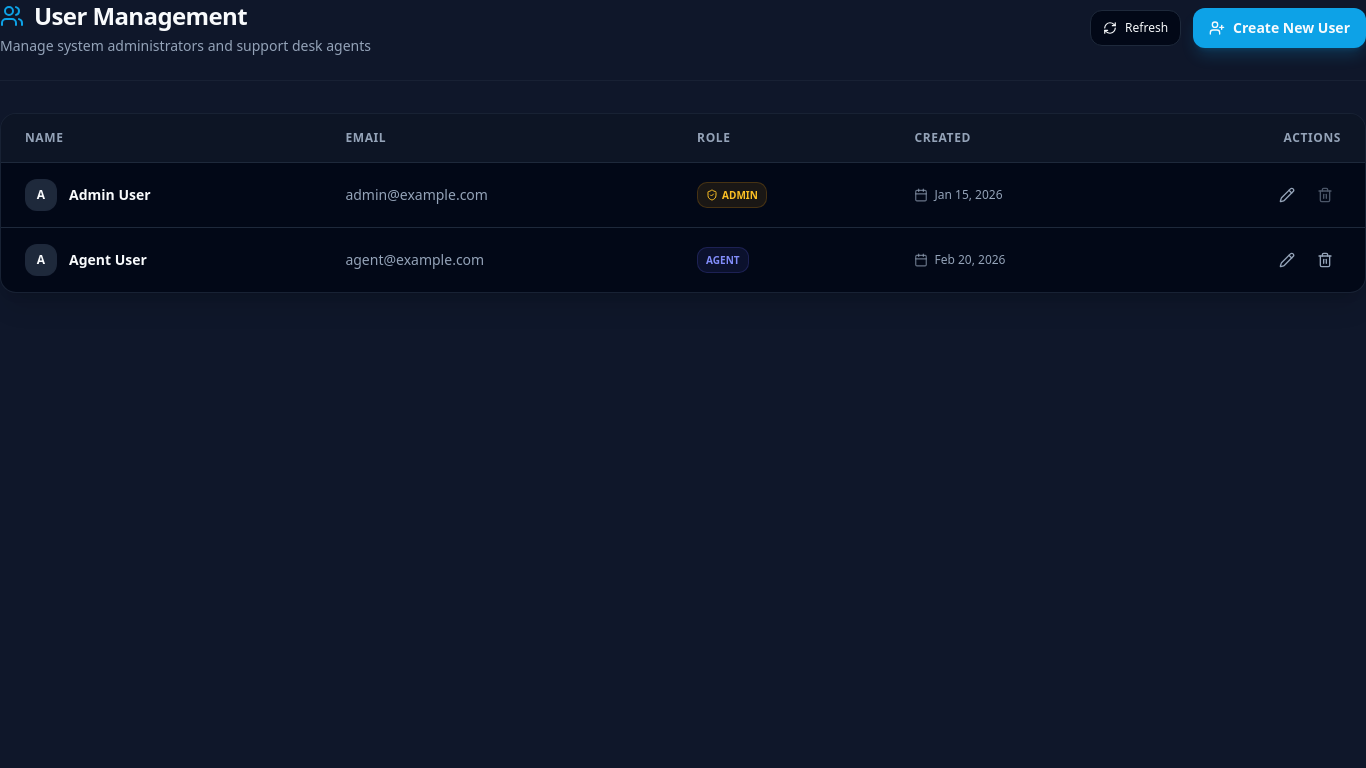
it: UsersPage Component › should open edit modal populated with selected user data when Edit button is clicked
The image size is (1366, 768).
Expected: the text "Admin User" is shown, [69,185,151,205]
Click edit button for "Admin User"
Click the button named "edit user admin user". click: (1287, 195)
box: [1271,179,1303,211]
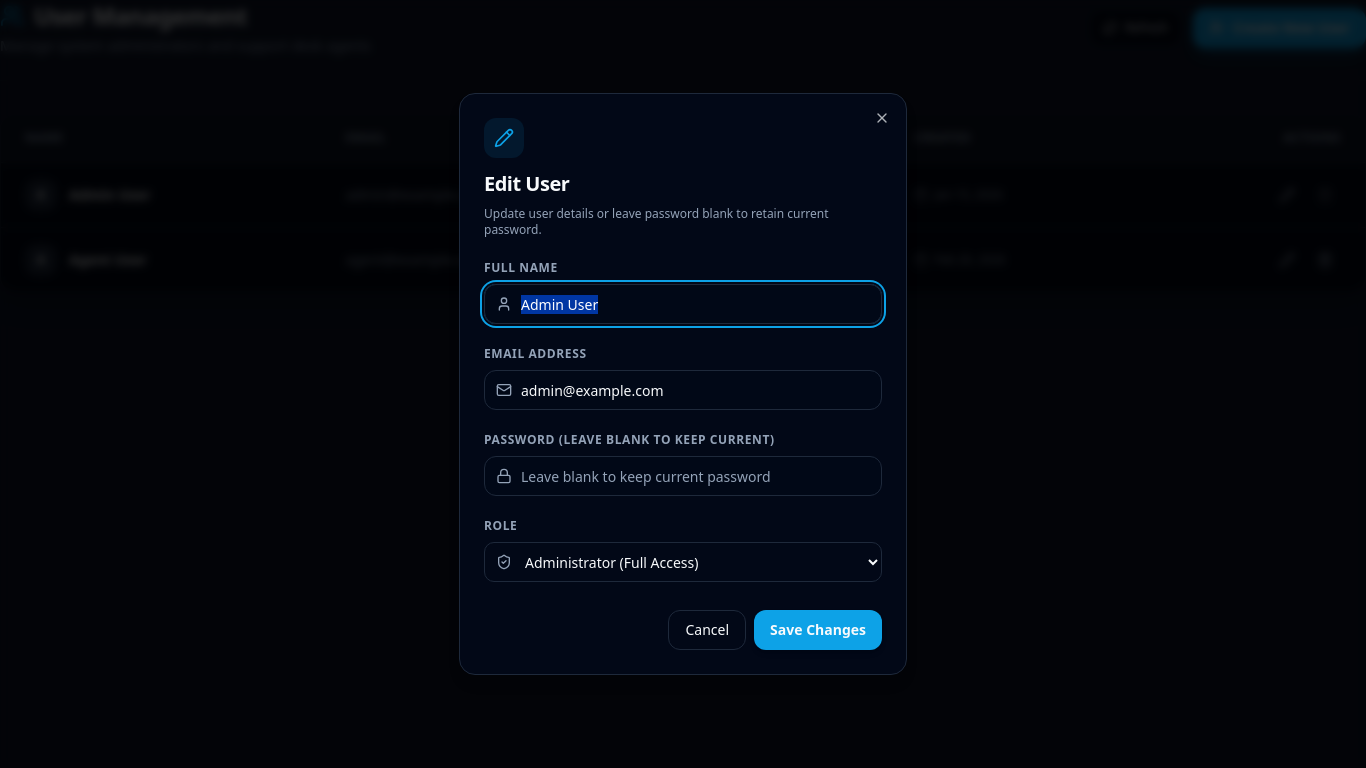
Now the dialog is shown, box [459,93,907,675]
Now the heading "Edit User" is shown, box [484,170,569,197]
Now the field labelled "Full Name" holds "Admin User", box [484,284,882,324]
